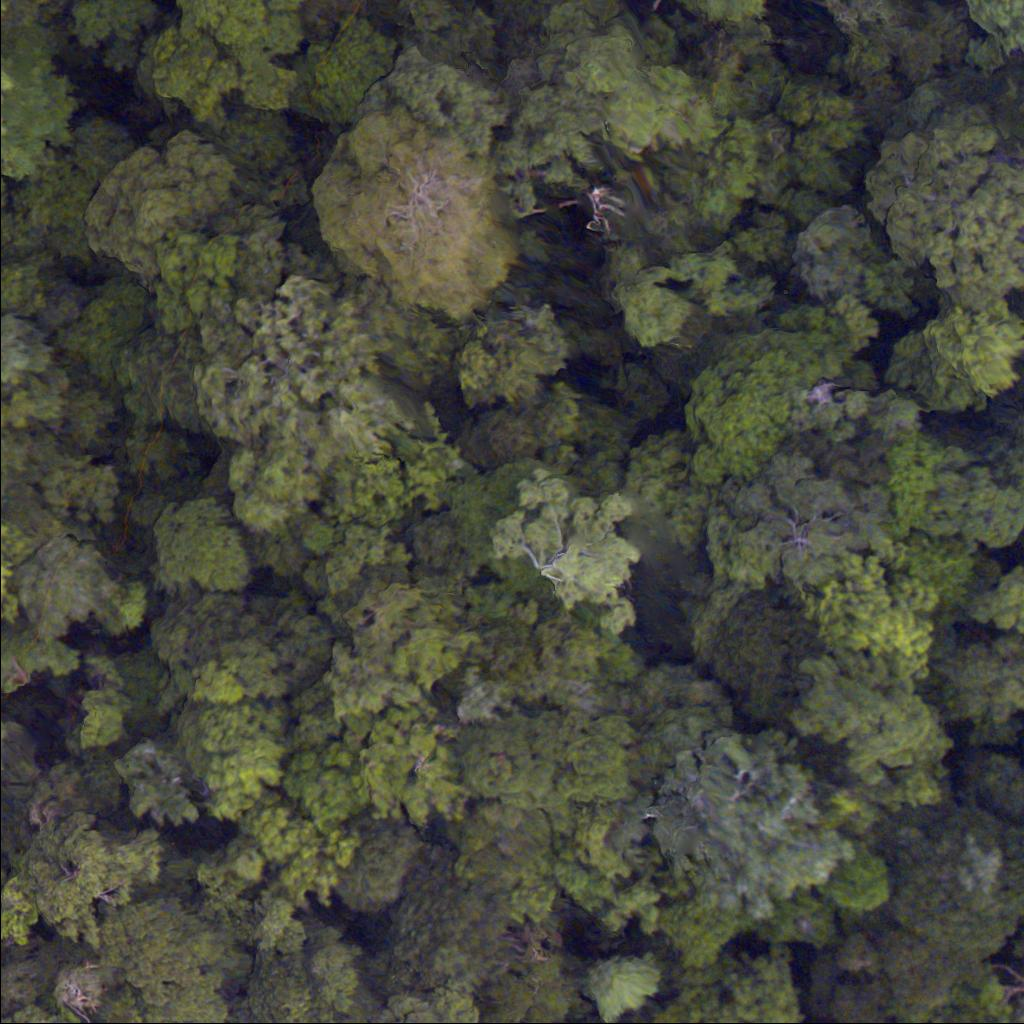crown: (180, 274, 411, 517), (320, 106, 524, 322), (649, 736, 852, 925), (367, 849, 521, 998), (90, 888, 255, 1023), (299, 700, 456, 825), (159, 691, 300, 823), (229, 933, 387, 1023), (627, 987, 725, 1023), (402, 998, 461, 1023)
